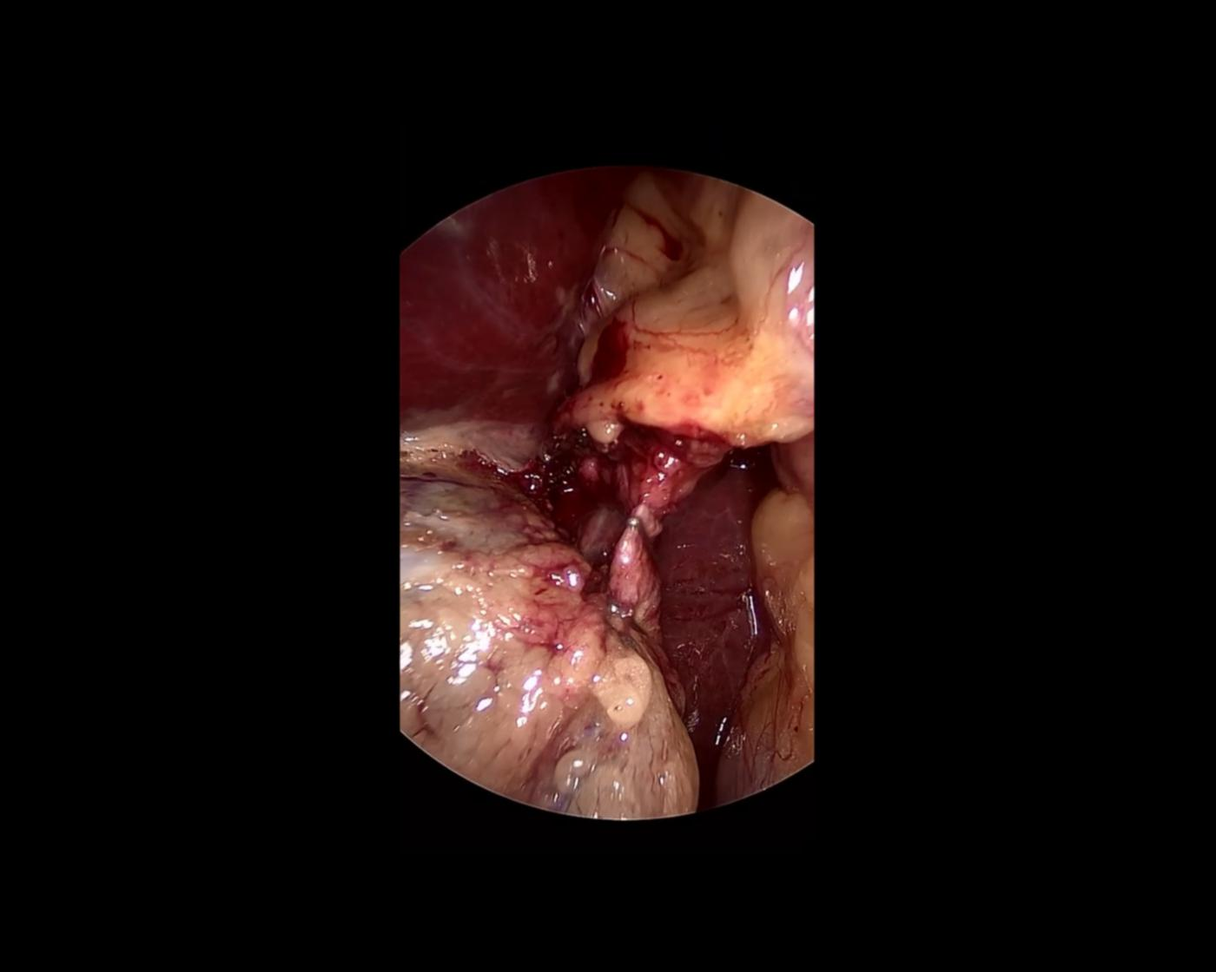Gallbladder: (397, 469, 699, 817)
Liver: (401, 162, 627, 437), (649, 444, 768, 785)
